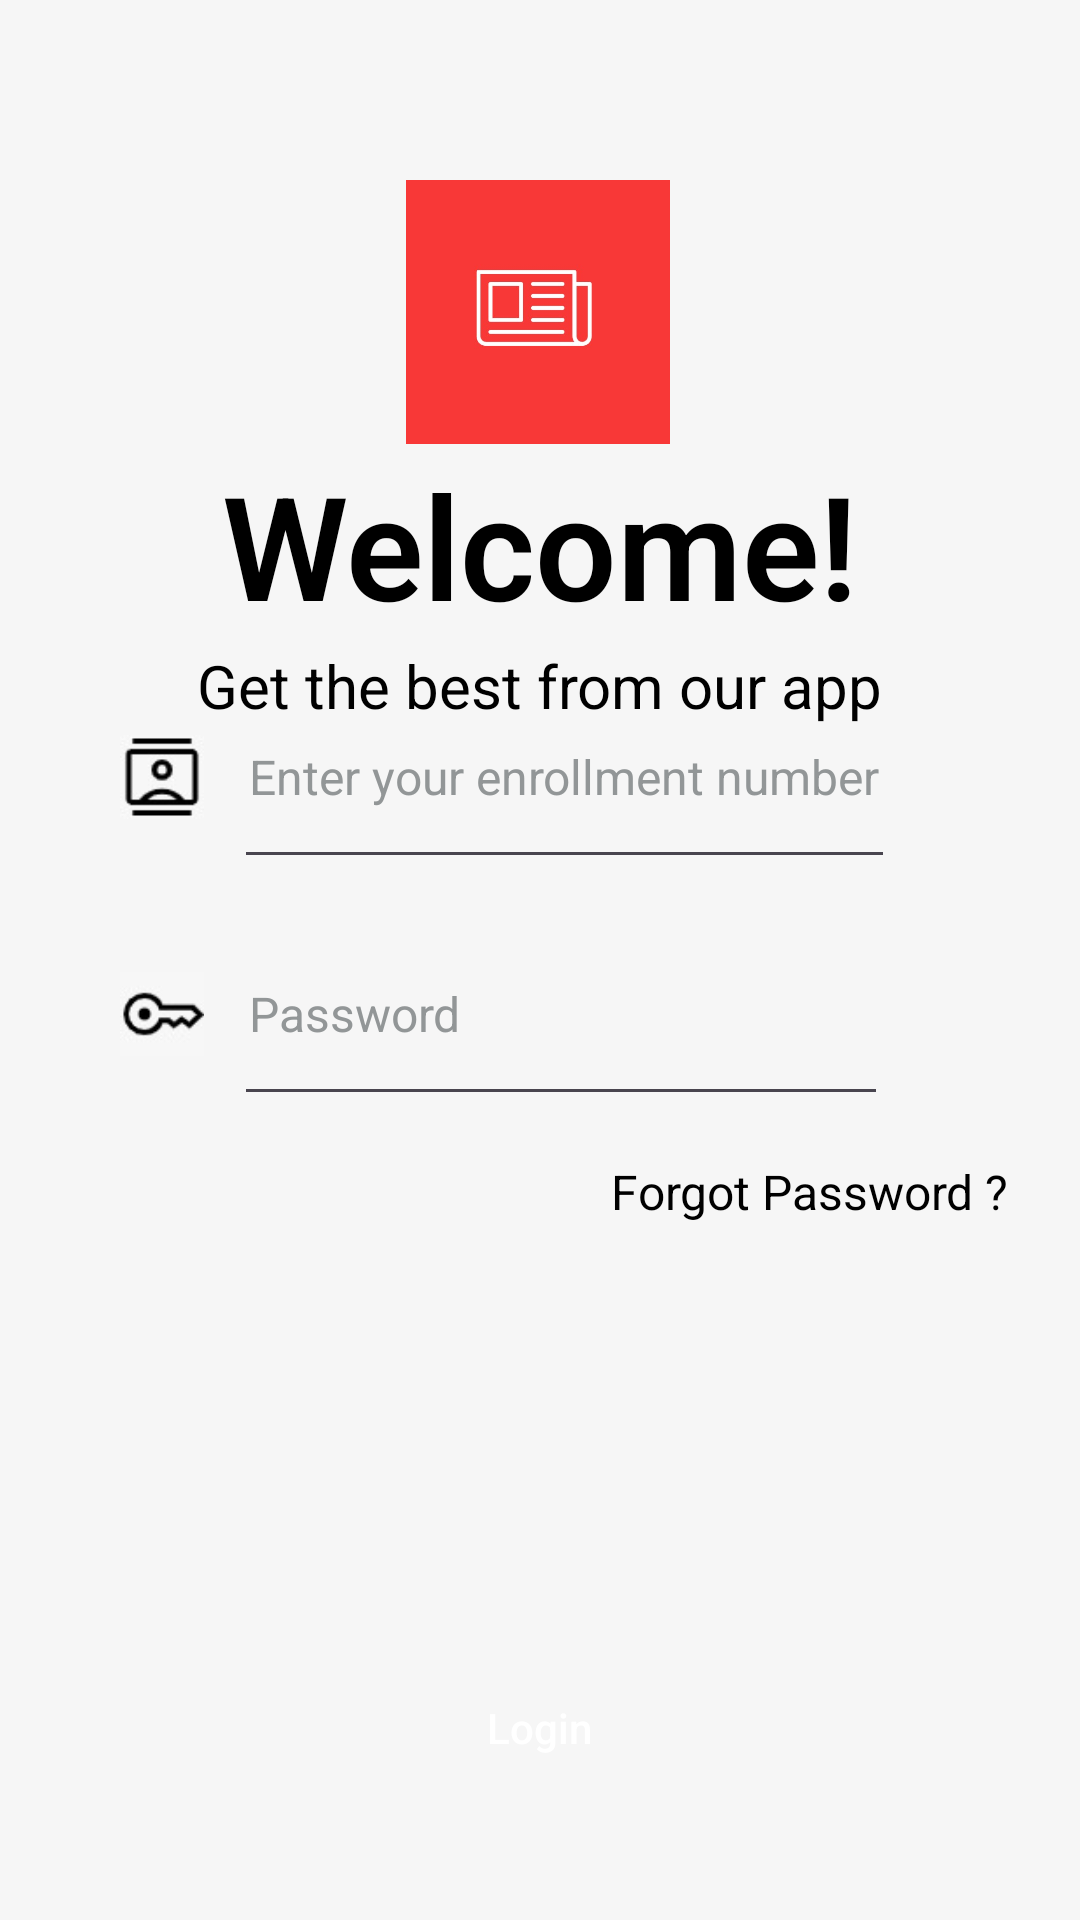

Icons on this 1080 × 1920 Android screen, each with the point to tap as (x,y):
acc: (162,777)
key: (163,1014)
